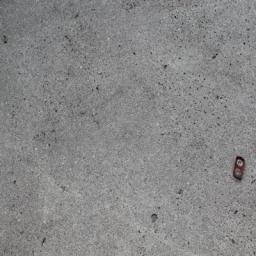FOD: (230, 153, 248, 184)
